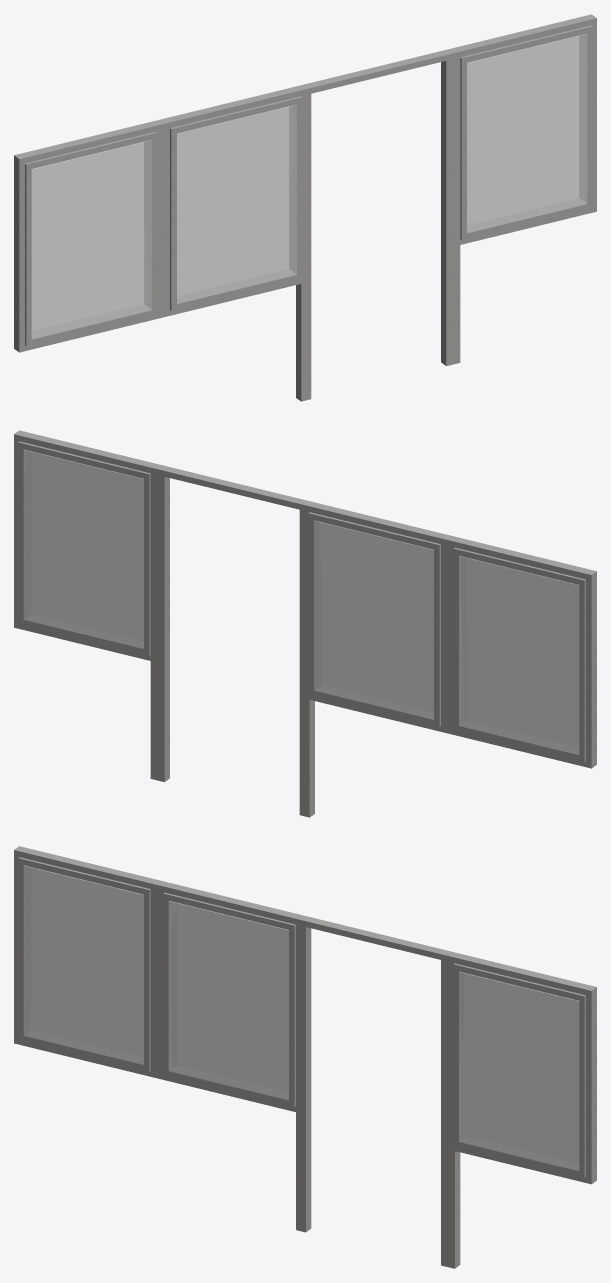
File: windows_door_open.dae
3 renders of one model, top to bottom at view 1: azimuth 30°, elevation 25°; view 2: azimuth 150°, elevation 25°; view 3: azimuth 330°, elevation 25°, orthographic.
Parts seen in each view (by area): view 1: windows_door, okna_s_dvermi_v2 v2; view 2: windows_door, okna_s_dvermi_v2 v2; view 3: windows_door, okna_s_dvermi_v2 v2.
Boxes of the visible parts, x1,y1,x2,y2 form: windows_door: (31, 33, 587, 339); okna_s_dvermi_v2 v2: (14, 14, 596, 401); windows_door: (23, 449, 579, 754); okna_s_dvermi_v2 v2: (14, 430, 596, 817); windows_door: (23, 865, 579, 1171); okna_s_dvermi_v2 v2: (14, 846, 596, 1268).
Bounding box in the file's own units: 6.25 × 0.151 × 3.22.
2 materials, 1 textured.
